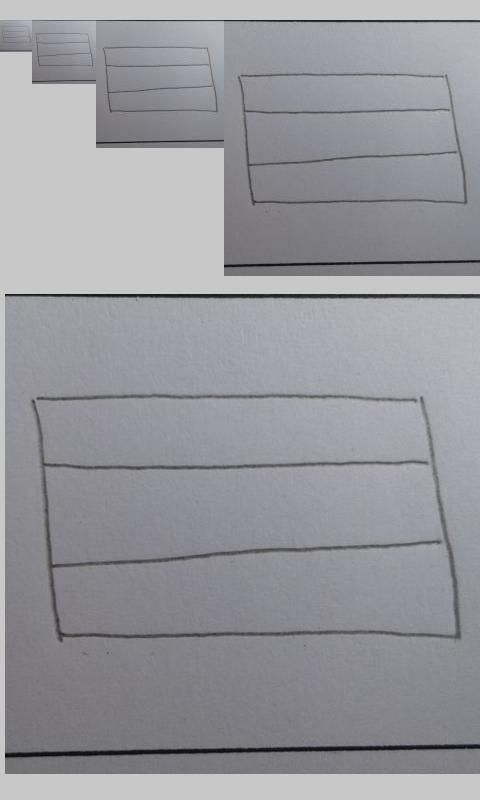list_view: (32, 390, 463, 645), (238, 72, 468, 206), (103, 45, 219, 114), (35, 32, 94, 68), (1, 25, 33, 44)
